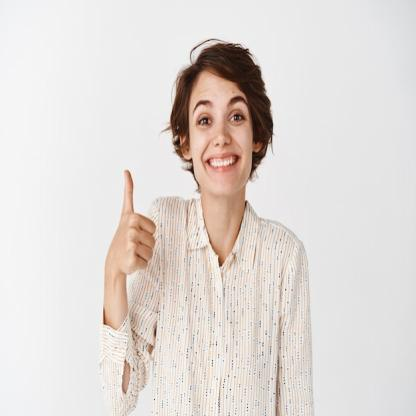thumb_up: (110, 166, 158, 282)
